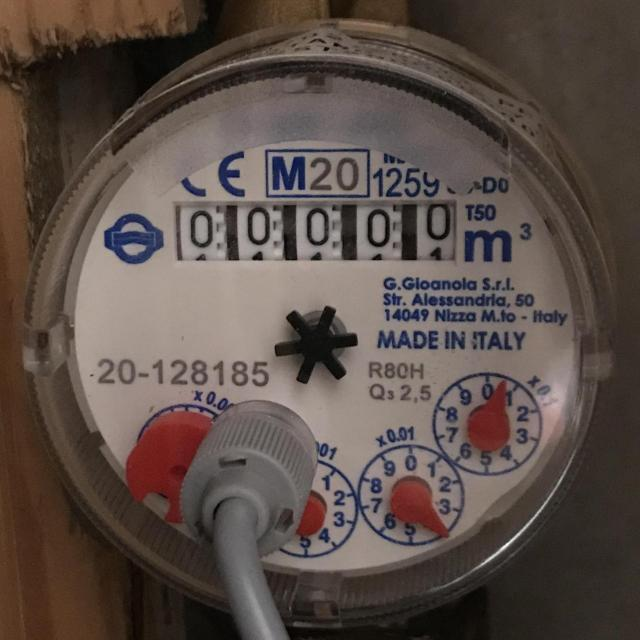gaz_meter: (19, 55, 601, 614)
indication: (171, 198, 461, 261)
